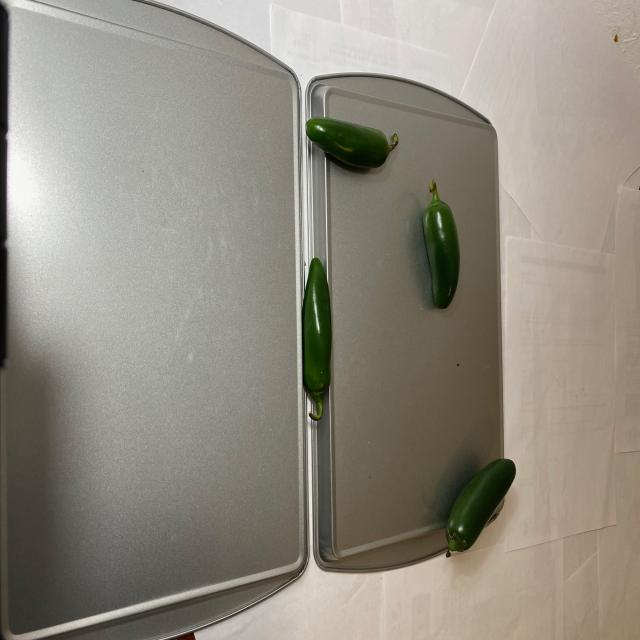chilli: (289, 112, 459, 436), (432, 454, 518, 564)
